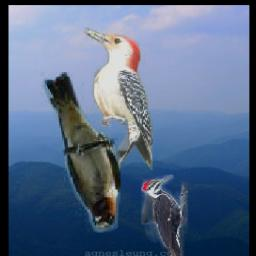Swallow: (41, 72, 121, 233)
Woodpecker: (81, 28, 152, 182), (141, 175, 188, 256)
